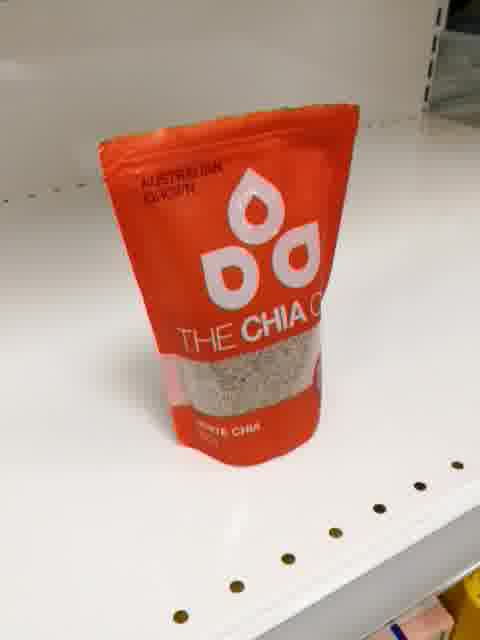whitechia: (92, 102, 364, 466)
